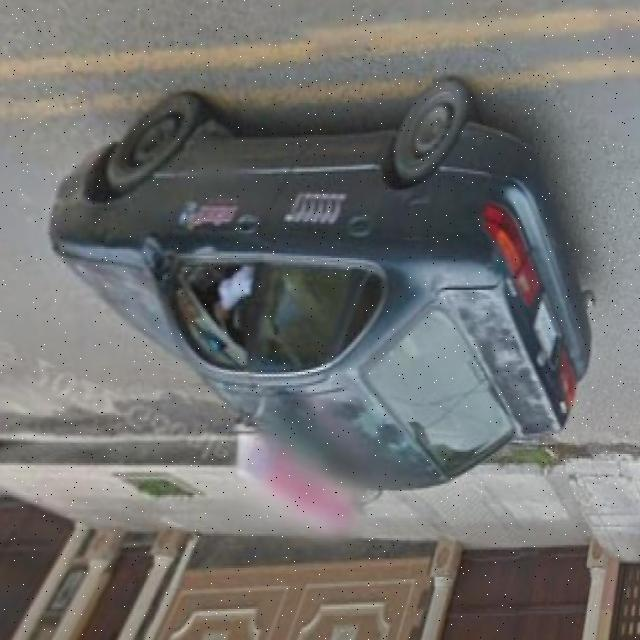car: (44, 81, 597, 466)
